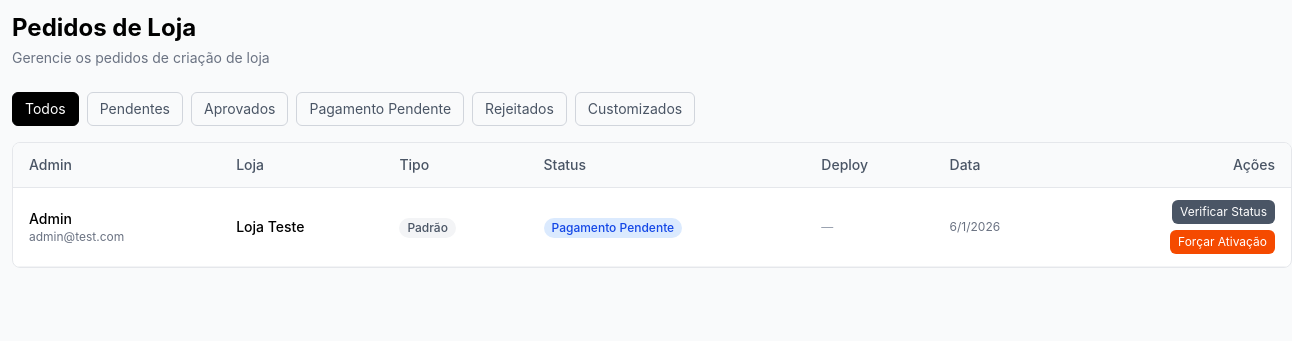
it: Store Requests Page › APPROVED_PENDING_PAYMENT › shows setup fee paid indicator
Step 1. Click the button "Verificar Status" → (1224, 212), box [1172,200,1275,224]
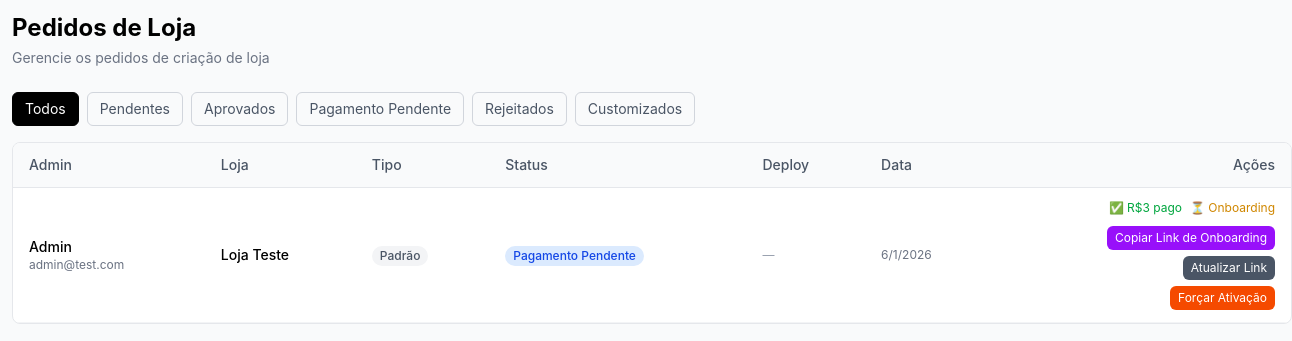
Result: the text "✅ R$3 pago" is shown at [1109,200,1182,216]
